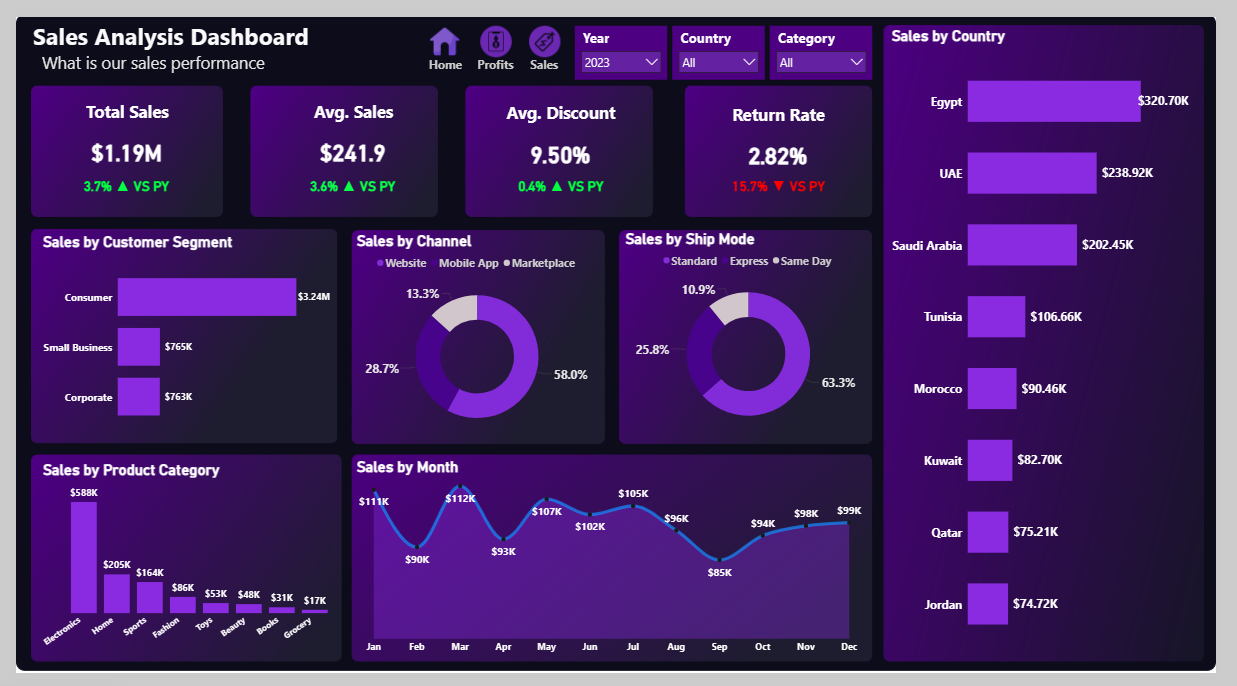

The dashboard page shown, as its layout file describes it:
{"tool":"powerbi","page":{"name":"Sales Dashboard","canvas":[1920,1050],"ordinal":1},"visuals":[{"type":"textbox","box":[21.7,0,536.7,103.3],"z":0},{"type":"card","fields":{"Values":["AllMeasures.TotalSales"]},"box":[22,104,310,222],"z":1000},{"type":"textbox","box":[96,128,164,50],"z":2000},{"type":"card","fields":{"Values":["AllMeasures.AvgSale"]},"box":[384,104,310,222],"z":3000},{"type":"textbox","box":[446,128,188,50],"z":4000},{"type":"card","fields":{"Values":["AllMeasures.AvgDiscount"]},"box":[716,106,310,222],"z":5000},{"type":"textbox","box":[774,130,196,50],"z":6000},{"type":"card","fields":{"Values":["AllMeasures.ReturnRate"]},"box":[1064,108,310,222],"z":7000},{"type":"textbox","box":[1122,132,196,50],"z":8000},{"type":"donutChart","title":"Sales by Channel","fields":{"Category":["Dim_Channel.Channel"],"Y":["AllMeasures.TotalSales"]},"box":[540,344,396,338],"z":9000},{"type":"donutChart","title":"Sales by Ship Mode","fields":{"Category":["Dim_ShipMode.ShipMode"],"Y":["AllMeasures.TotalSales"]},"box":[970,340,404,338],"z":10000},{"type":"lineChart","title":"Sales by Month","fields":{"Category":["Dim_Date.Month Name"],"Y":["AllMeasures.TotalSales"]},"box":[540,706,826,322],"z":11000},{"type":"clusteredColumnChart","title":"Sales by Year","fields":{"Category":["Dim_Date.Year"],"Y":["AllMeasures.TotalSales"]},"box":[38,346,470,332],"z":12000},{"type":"clusteredColumnChart","title":"Sales by Product Category","fields":{"Category":["Dim_Product.Category"],"Y":["AllMeasures.TotalSales"]},"box":[38,710,488,316],"z":13000},{"type":"slicer","fields":{"Values":["Dim_Customer.Country"]},"box":[1050,14,148,86],"z":14000},{"type":"slicer","fields":{"Values":["Dim_Product.Category"]},"box":[1206,14,164,86],"z":15000},{"type":"slicer","fields":{"Values":["Dim_Date.Year"]},"box":[894,14,148,86],"z":16000},{"type":"clusteredBarChart","title":"Sales by Country","fields":{"Category":["Dim_Customer.Country"],"Y":["AllMeasures.TotalSales"]},"box":[1395.1,16.2,485.4,1010.3],"z":17000},{"type":"image","box":[636.8,14.3,100,50],"z":18000,"group":"g3"},{"type":"group","id":"g1","title":"Group 2","box":[793.2,14.3,102,102],"z":19000},{"type":"group","id":"g2","title":"Group 3","box":[716.4,14.3,102,102],"z":20000},{"type":"image","box":[718.4,14.3,100,50],"z":20000,"group":"g2"},{"type":"group","id":"g3","title":"Group 4","box":[636.8,14.3,102,102],"z":21000},{"type":"image","box":[795.2,14.3,100,50],"z":21000,"group":"g1"},{"type":"textbox","box":[636.8,58.3,102,58],"z":22000,"group":"g3"},{"type":"card","fields":{"Values":["AllMeasures.T.SalesYOYpct"]},"box":[58,238,238,66],"z":22000},{"type":"textbox","box":[716.4,58.3,102,58],"z":23000,"group":"g2"},{"type":"card","fields":{"Values":["AllMeasures.AvgSalesYOYpct"]},"box":[416,238,246,66],"z":23000},{"type":"textbox","box":[793.2,58.3,102,58],"z":24000,"group":"g1"},{"type":"card","fields":{"Values":["AllMeasures.AvgDiscountYOYpct"]},"box":[746,238,252,66],"z":24000},{"type":"card","fields":{"Values":["AllMeasures.RetuenRateYOYpct"]},"box":[1094,238,252,66],"z":25000}]}

Visuals, with their boxes in screenshot pixels (x1, y1, x2, y2), scaled from the page's 1920x1050 canvas onto the 1237x686 screenshot:
textbox: region(14, 0, 360, 67)
card - AllMeasures.TotalSales: region(14, 68, 214, 213)
textbox: region(62, 84, 168, 116)
card - AllMeasures.AvgSale: region(247, 68, 447, 213)
textbox: region(287, 84, 408, 116)
card - AllMeasures.AvgDiscount: region(461, 69, 661, 214)
textbox: region(499, 85, 625, 118)
card - AllMeasures.ReturnRate: region(686, 71, 885, 216)
textbox: region(723, 86, 849, 119)
"Sales by Channel" donutChart: region(348, 225, 603, 446)
"Sales by Ship Mode" donutChart: region(625, 222, 885, 443)
"Sales by Month" lineChart: region(348, 461, 880, 672)
"Sales by Year" clusteredColumnChart: region(24, 226, 327, 443)
"Sales by Product Category" clusteredColumnChart: region(24, 464, 339, 670)
slicer - Dim_Customer.Country: region(676, 9, 772, 65)
slicer - Dim_Product.Category: region(777, 9, 883, 65)
slicer - Dim_Date.Year: region(576, 9, 671, 65)
"Sales by Country" clusteredBarChart: region(899, 11, 1212, 671)
image: region(410, 9, 475, 42)
"Group 2" group: region(511, 9, 577, 76)
"Group 3" group: region(462, 9, 527, 76)
image: region(463, 9, 527, 42)
"Group 4" group: region(410, 9, 476, 76)
image: region(512, 9, 577, 42)
textbox: region(410, 38, 476, 76)
card - AllMeasures.T.SalesYOYpct: region(37, 155, 191, 199)
textbox: region(462, 38, 527, 76)
card - AllMeasures.AvgSalesYOYpct: region(268, 155, 427, 199)
textbox: region(511, 38, 577, 76)
card - AllMeasures.AvgDiscountYOYpct: region(481, 155, 643, 199)
card - AllMeasures.RetuenRateYOYpct: region(705, 155, 867, 199)
